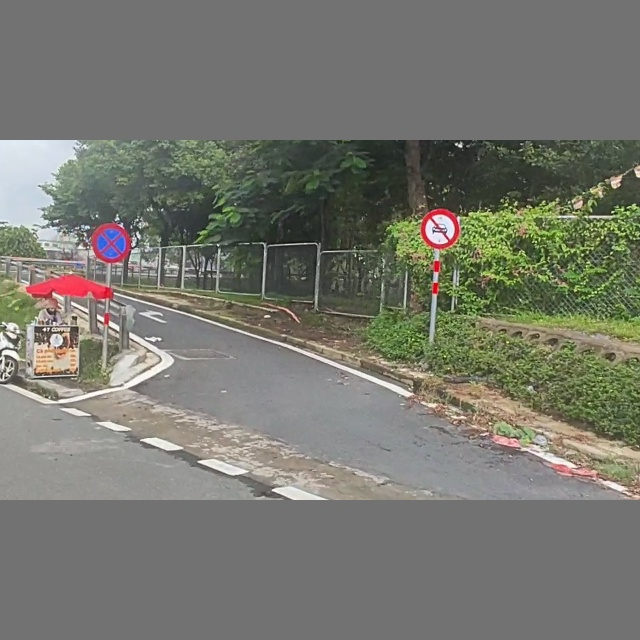P.103a: (421, 209, 460, 249)
P.130: (90, 222, 131, 263)
